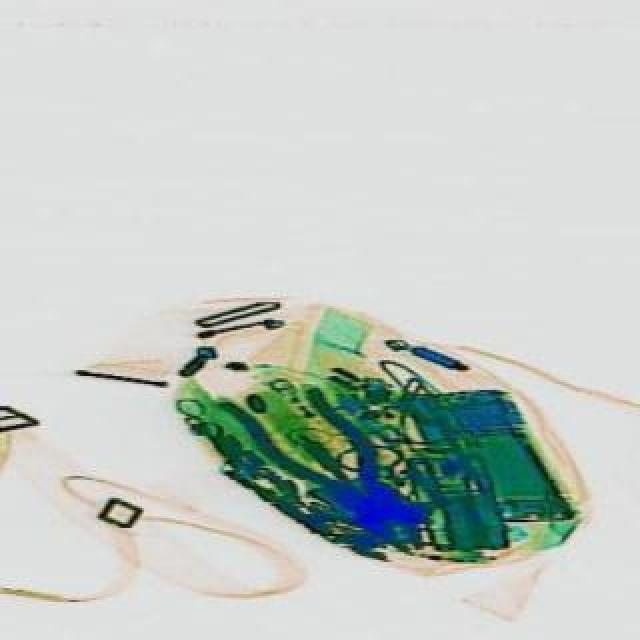wrench: (220, 348, 454, 576)
